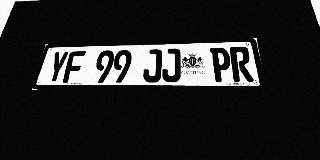9: (93, 50, 115, 83), (111, 50, 132, 83)
F: (62, 51, 86, 83)
J: (142, 49, 162, 82), (162, 49, 181, 82)
P: (210, 47, 233, 82)
R: (229, 47, 254, 82)
Y: (45, 51, 69, 83)
